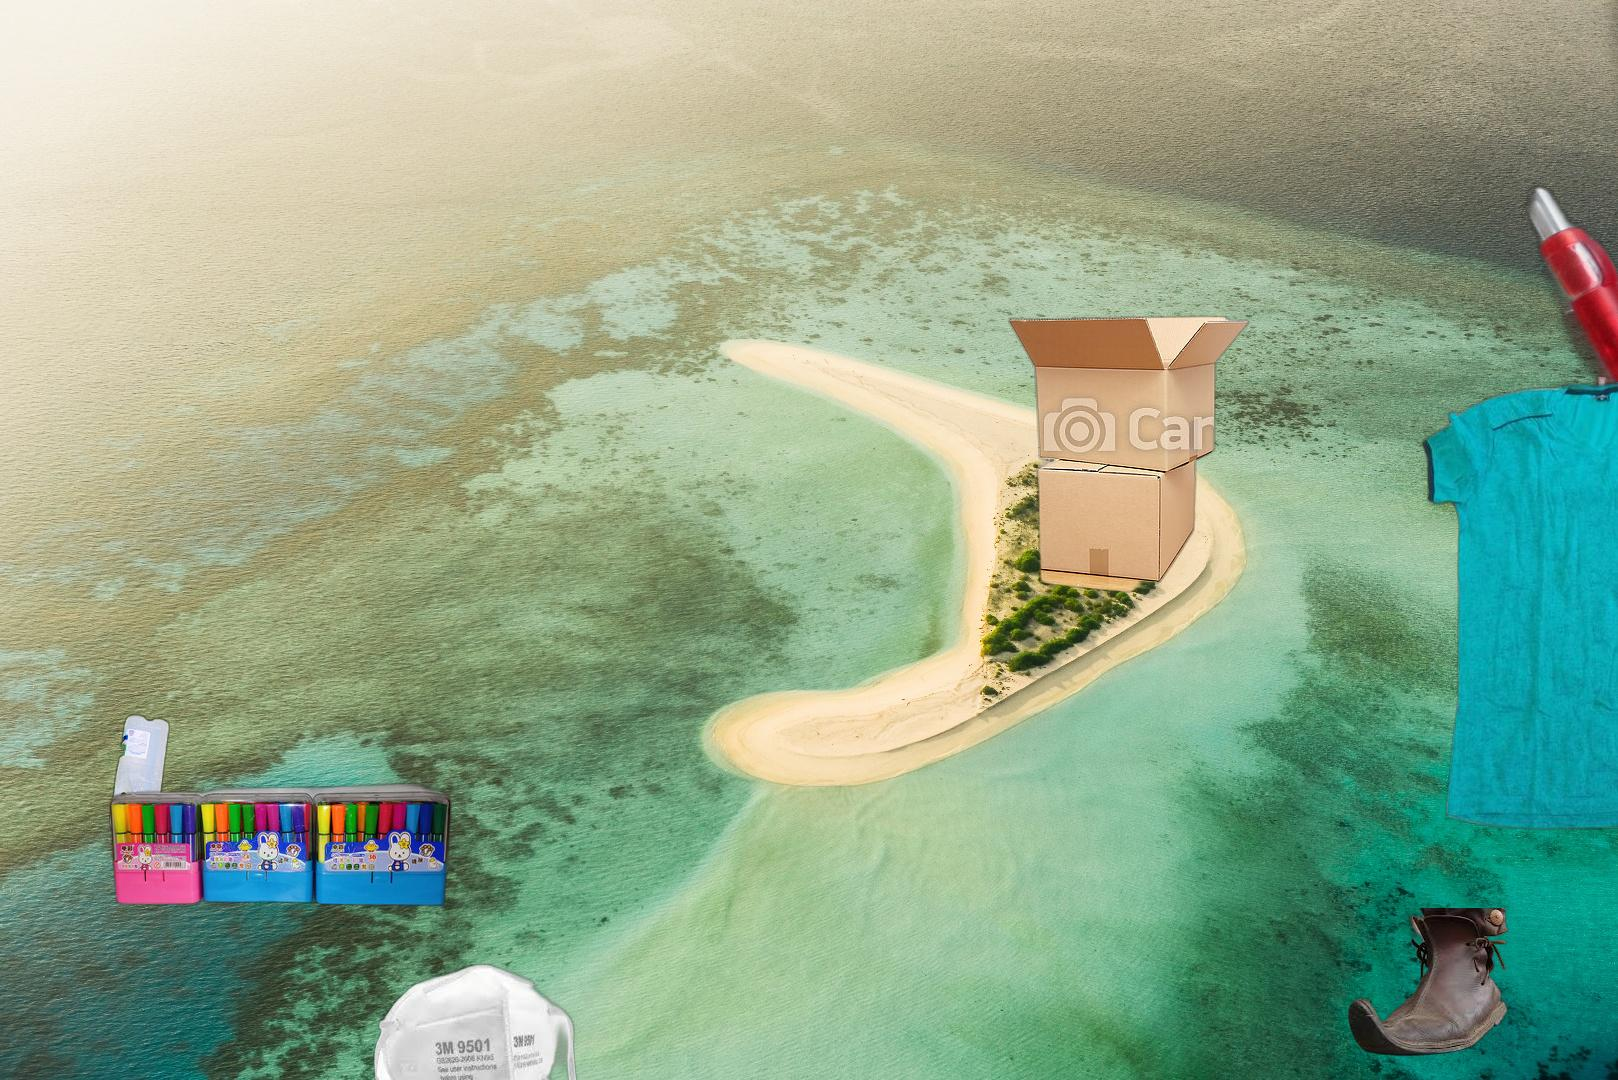clothes: (1419, 375, 1618, 834)
penholder: (1514, 34, 1618, 903), (107, 779, 454, 909)
plastic-bottles: (105, 708, 173, 853)
shoes: (1345, 908, 1510, 1060)
trash: (371, 953, 598, 1080)
trashbox-cardboard: (1004, 312, 1255, 595)
